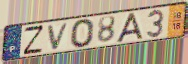3: (145, 8, 166, 39)
8: (96, 16, 118, 46)
A: (115, 11, 145, 44)
O: (70, 18, 96, 49)
V: (47, 21, 71, 51)
Z: (22, 24, 45, 56)
